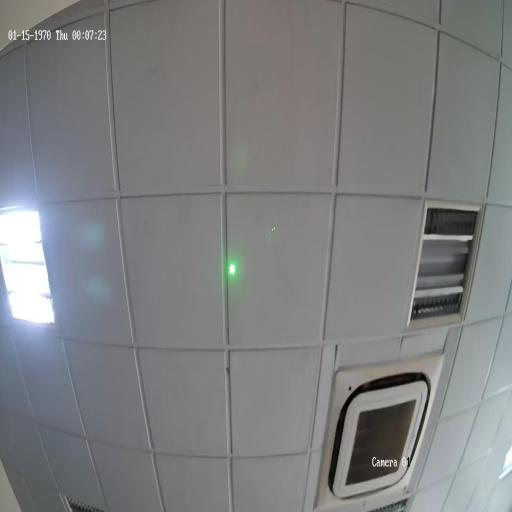laser: (229, 262, 236, 276)
